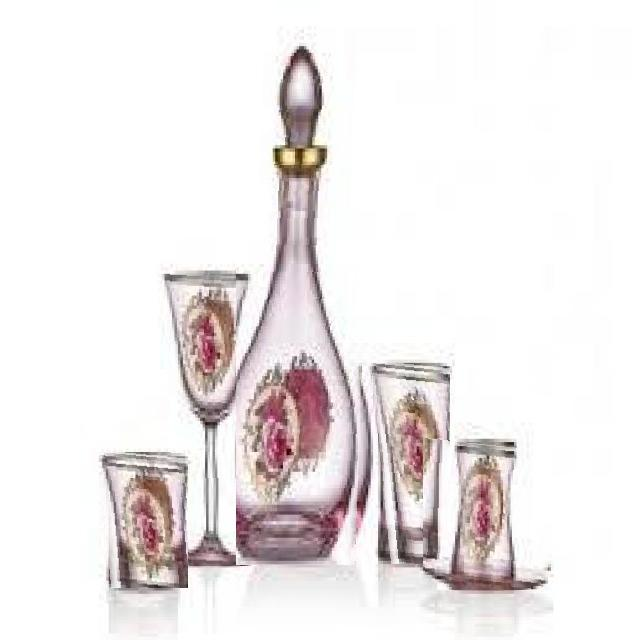Glass: (236, 42, 374, 565), (162, 272, 264, 566), (423, 438, 551, 590), (370, 360, 450, 564), (99, 451, 188, 588)
